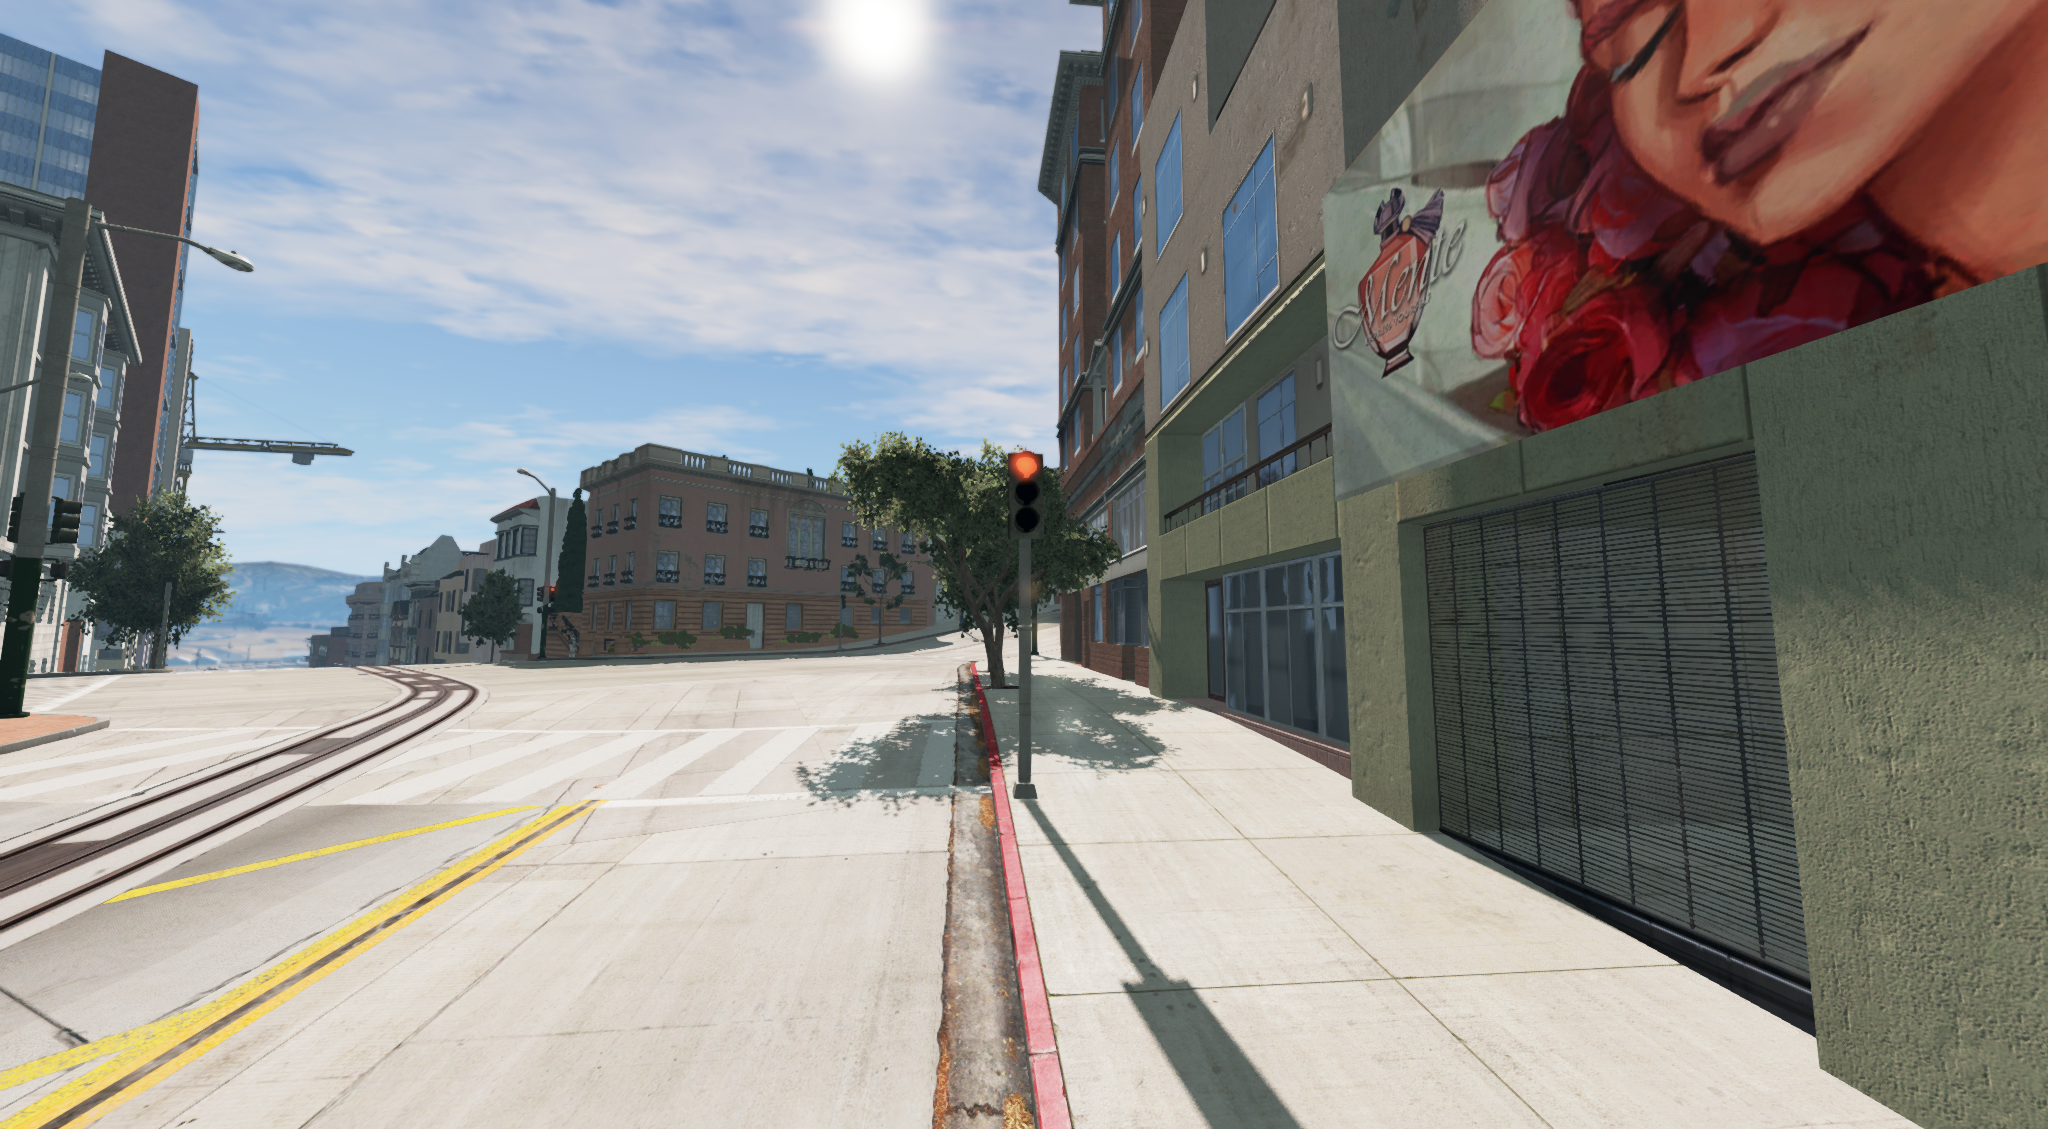red: (1001, 449, 1048, 544)
